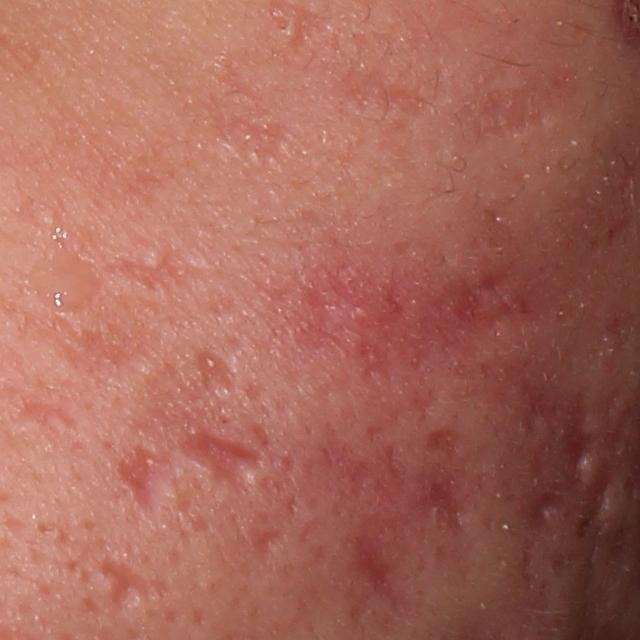atrophic_scar: (187, 50, 305, 168), (311, 24, 441, 118), (455, 60, 588, 145), (511, 371, 596, 480), (176, 427, 273, 488), (110, 445, 173, 527), (342, 532, 400, 611), (96, 553, 175, 610), (104, 253, 203, 296), (577, 462, 616, 538), (413, 482, 467, 536), (435, 274, 483, 327), (9, 394, 76, 428), (196, 349, 242, 395), (523, 483, 564, 532), (421, 420, 466, 462), (252, 525, 287, 565), (475, 263, 513, 295)
hypertrophic_scar: (573, 451, 604, 488), (137, 245, 167, 266)
